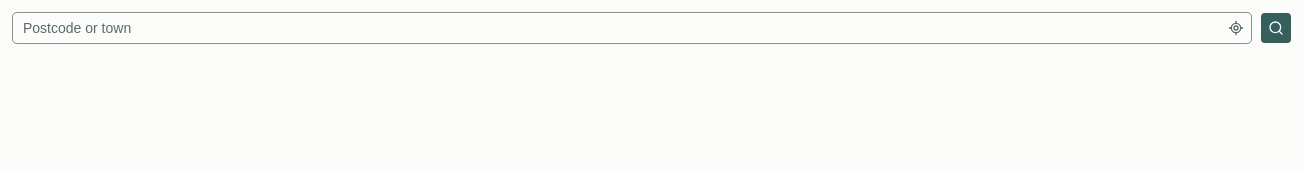
Test: SearchBox › passes on the Worker's reason when the lookup fails
Click the 1st button named "Use my location": (1236, 28) [1222,14,1250,42]
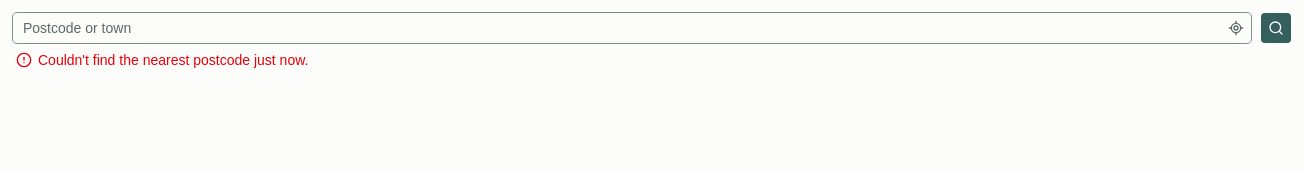
Expected: the message reads "Couldn't find the nearest postcode just now.", [38,52,308,68]
